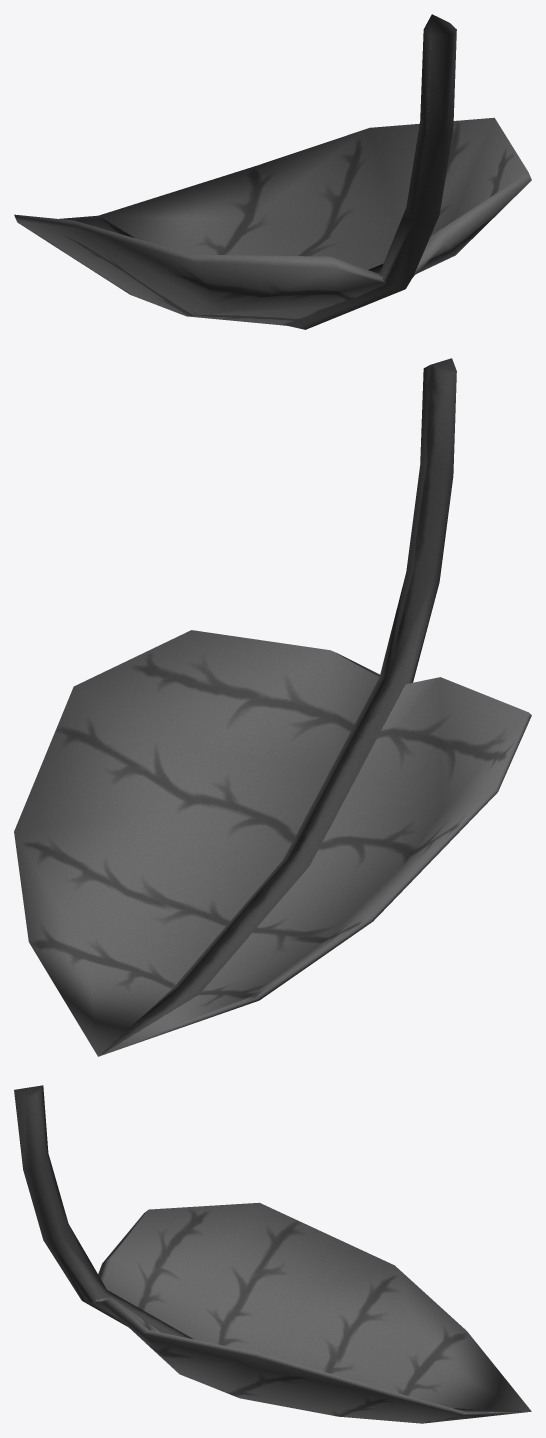
The model's file is Blatt2.dae.
3 views of the same model, one above another, from view 1: azimuth 30°, elevation 25°; view 2: azimuth 150°, elevation 25°; view 3: azimuth 270°, elevation 25° (orthographic). The views are drawn at different scales.
Visible parts, largest first — view 1: Plane_001; view 2: Plane_001; view 3: Plane_001.
Part boxes in pixels (left/top/right/bottom): Plane_001: left=14, top=14, right=531, bottom=329; Plane_001: left=14, top=358, right=531, bottom=1056; Plane_001: left=14, top=1085, right=531, bottom=1423.
Bounding box in the file's own units: 0.7112 × 1.04 × 0.7367.
1 material, 1 textured.
